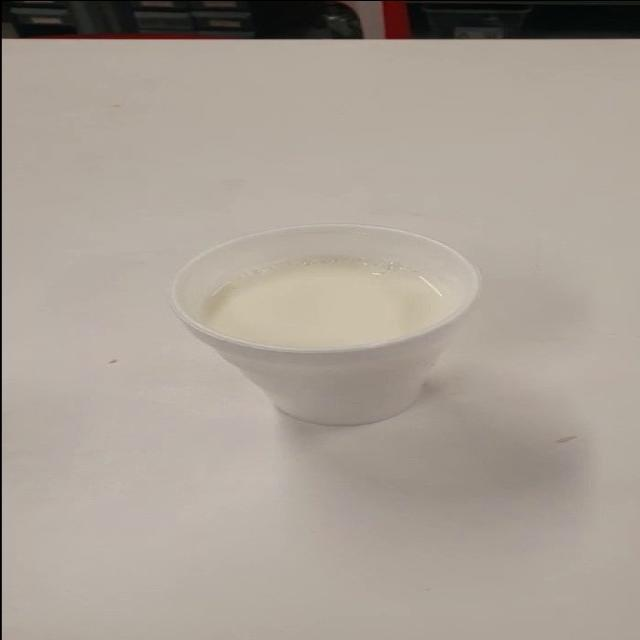Milk: (141, 210, 485, 442)
